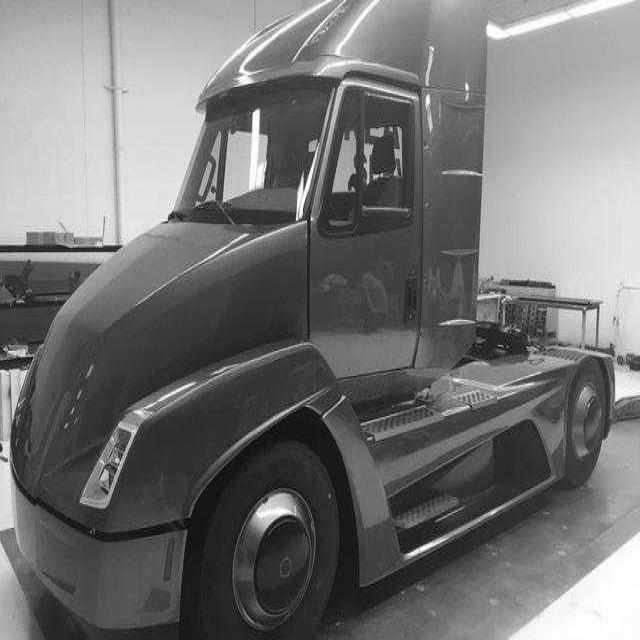Truck: (11, 0, 615, 637)
